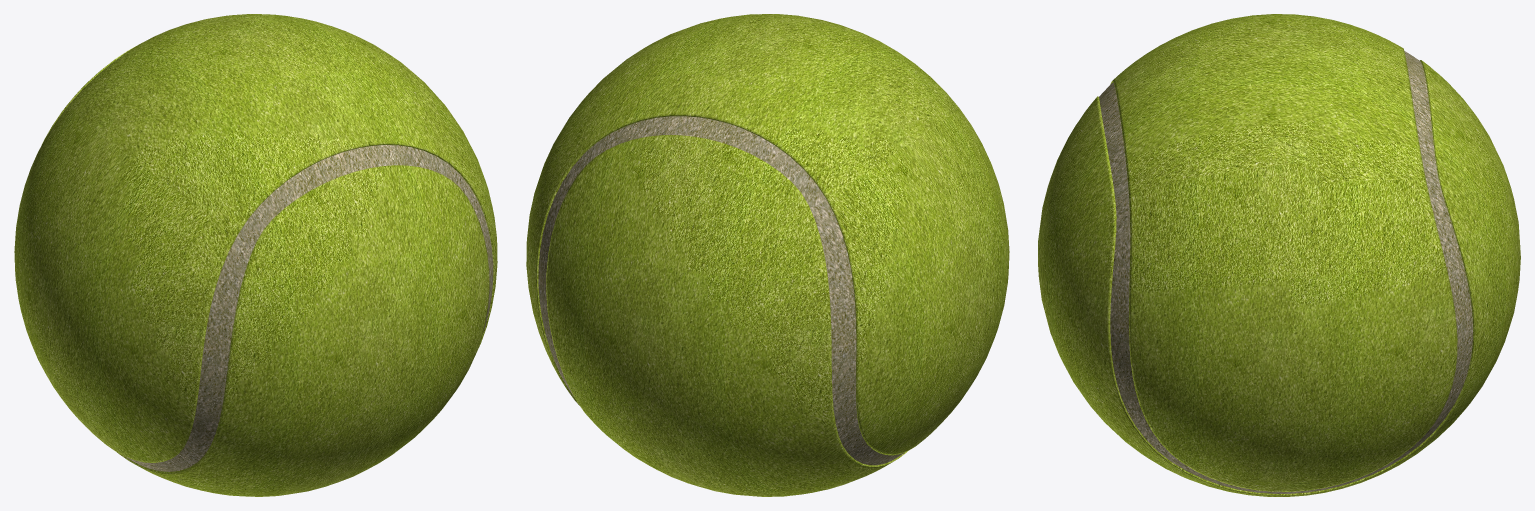
The model's file is tns.obj.
The picture shows the model from 3 angles, left to right: view 1: azimuth 30°, elevation 25°; view 2: azimuth 150°, elevation 25°; view 3: azimuth 270°, elevation 25°; orthographic projection.
Visible parts, largest first — view 1: Null_Subdivision_Surface_1, Null_Subdivision_Surface_1_Subdivision_Surface_11_Subdivision_Su; view 2: Null_Subdivision_Surface_1, Null_Subdivision_Surface_1_Subdivision_Surface_11_Subdivision_Su; view 3: Null_Subdivision_Surface_1, Null_Subdivision_Surface_1_Subdivision_Surface_11_Subdivision_Su.
Part boxes in pixels (x1,y1,x2,y2): Null_Subdivision_Surface_1: [14, 14, 497, 496]; Null_Subdivision_Surface_1_Subdivision_Surface_11_Subdivision_Su: [125, 145, 493, 471]; Null_Subdivision_Surface_1: [526, 14, 1009, 496]; Null_Subdivision_Surface_1_Subdivision_Surface_11_Subdivision_Su: [538, 116, 904, 465]; Null_Subdivision_Surface_1: [1038, 14, 1520, 496]; Null_Subdivision_Surface_1_Subdivision_Surface_11_Subdivision_Su: [1099, 51, 1472, 493].
Size of the model in its own units: 230 by 230 by 230.
Materials: 2 (2 with a texture image).
